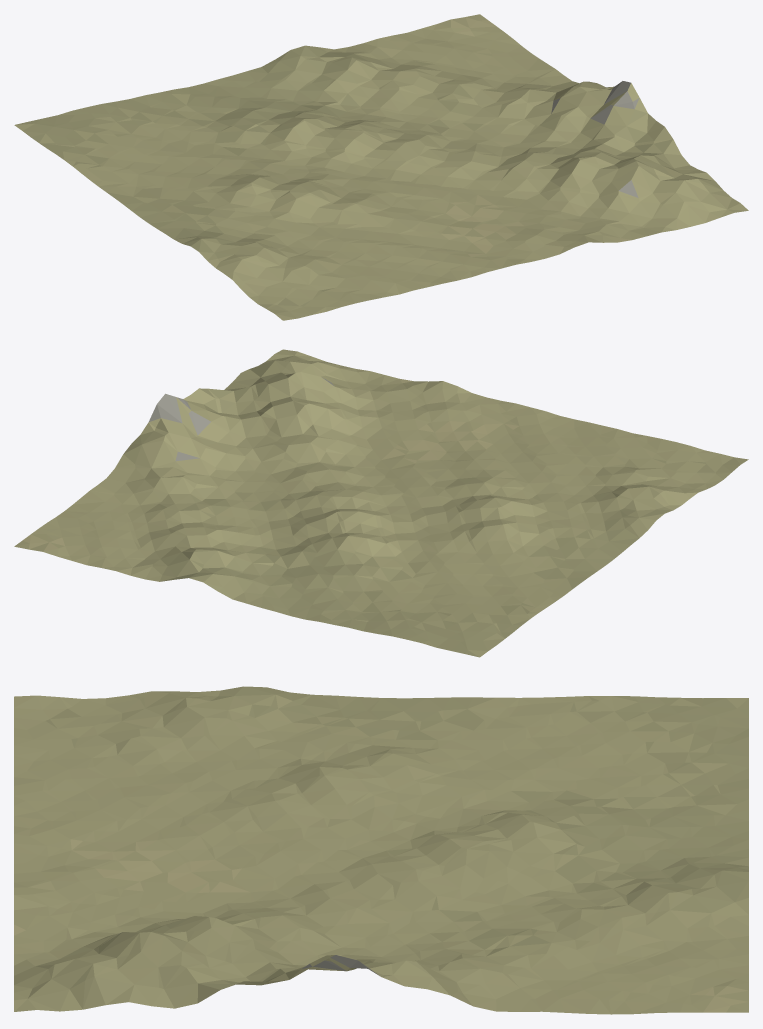
Rendered from Ground_6_-8.glb.
The picture shows the model from 3 angles, top to bottom: view 1: azimuth 30°, elevation 25°; view 2: azimuth 150°, elevation 25°; view 3: azimuth 270°, elevation 25°; orthographic projection. The views are drawn at different scales.
Parts seen in each view (by area): view 1: Ground_6_-8; view 2: Ground_6_-8; view 3: Ground_6_-8.
Boxes of the visible parts, x1=… form: Ground_6_-8: x1=14, y1=14, x2=748, y2=320; Ground_6_-8: x1=14, y1=349, x2=748, y2=657; Ground_6_-8: x1=14, y1=686, x2=748, y2=1014.
Bounding box in the file's own units: 768 × 69.81 × 768.
